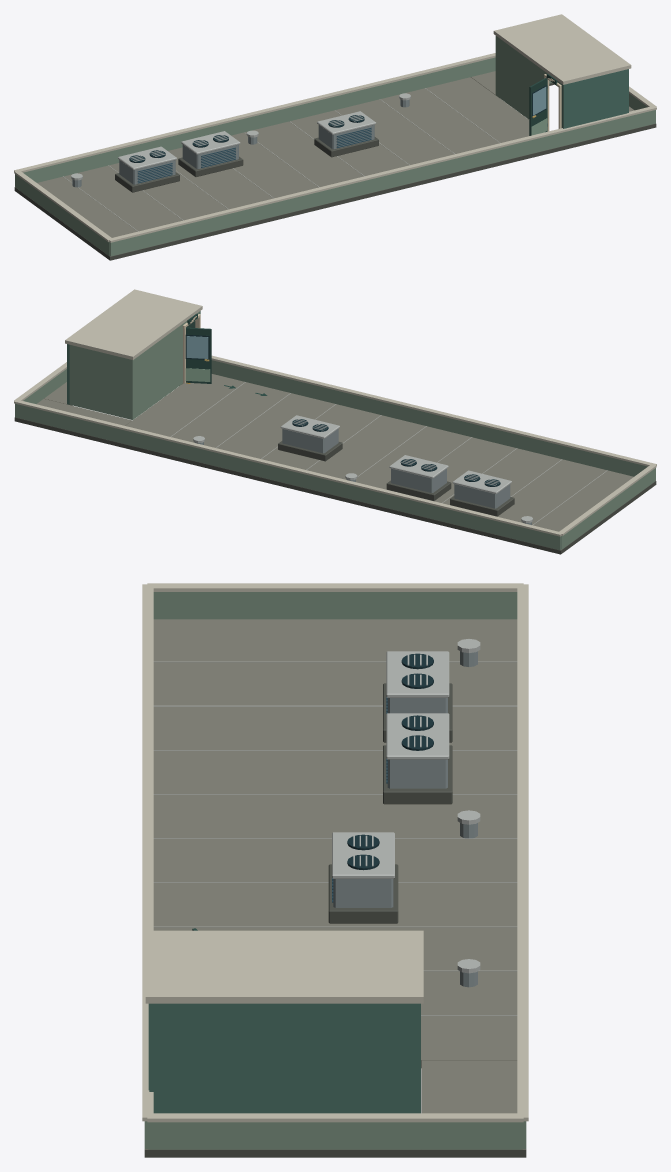
File: roof.glb
3 renders of one model, top to bottom at view 1: azimuth 30°, elevation 25°; view 2: azimuth 150°, elevation 25°; view 3: azimuth 270°, elevation 25°, orthographic. The views are drawn at different scales.
Parts seen in each view (by area): view 1: roof_deck_and_parapet, cutaway_roof_bulkhead, roof_service_equipment, roof_bulkhead, roof_exit_door; view 2: roof_deck_and_parapet, roof_bulkhead, roof_service_equipment, cutaway_roof_bulkhead, roof_exit_door; view 3: roof_deck_and_parapet, cutaway_roof_bulkhead, roof_service_equipment.
Part boxes in pixels (left/top/right/bottom): roof_deck_and_parapet: left=14, top=53, right=656, bottom=260; cutaway_roof_bulkhead: left=493, top=14, right=631, bottom=128; roof_service_equipment: left=71, top=93, right=410, bottom=192; roof_bulkhead: left=495, top=36, right=563, bottom=128; roof_exit_door: left=529, top=78, right=547, bottom=135; roof_deck_and_parapet: left=14, top=355, right=656, bottom=554; roof_bulkhead: left=69, top=311, right=200, bottom=419; roof_service_equipment: left=193, top=415, right=533, bottom=524; cutaway_roof_bulkhead: left=65, top=289, right=202, bottom=404; roof_exit_door: left=185, top=327, right=211, bottom=383; roof_deck_and_parapet: left=142, top=583, right=528, bottom=1157; cutaway_roof_bulkhead: left=145, top=930, right=423, bottom=1113; roof_service_equipment: left=328, top=639, right=480, bottom=987.
Bounding box in the file's own units: 24.24 × 2.88 × 7.39.
